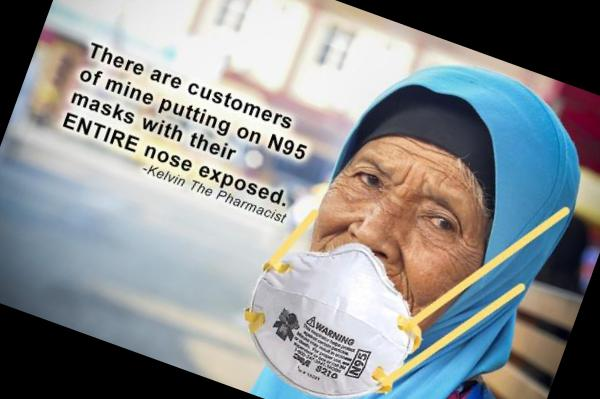mask_weared_incorrect: (281, 139, 499, 364)
